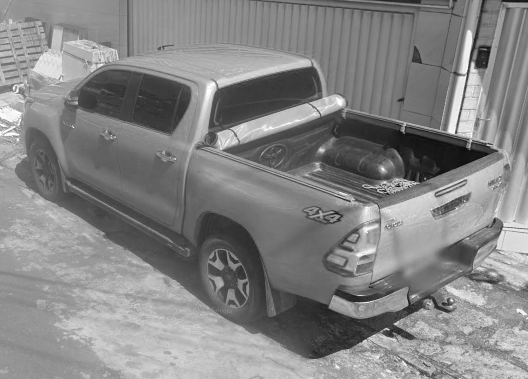car: (18, 43, 512, 350)
